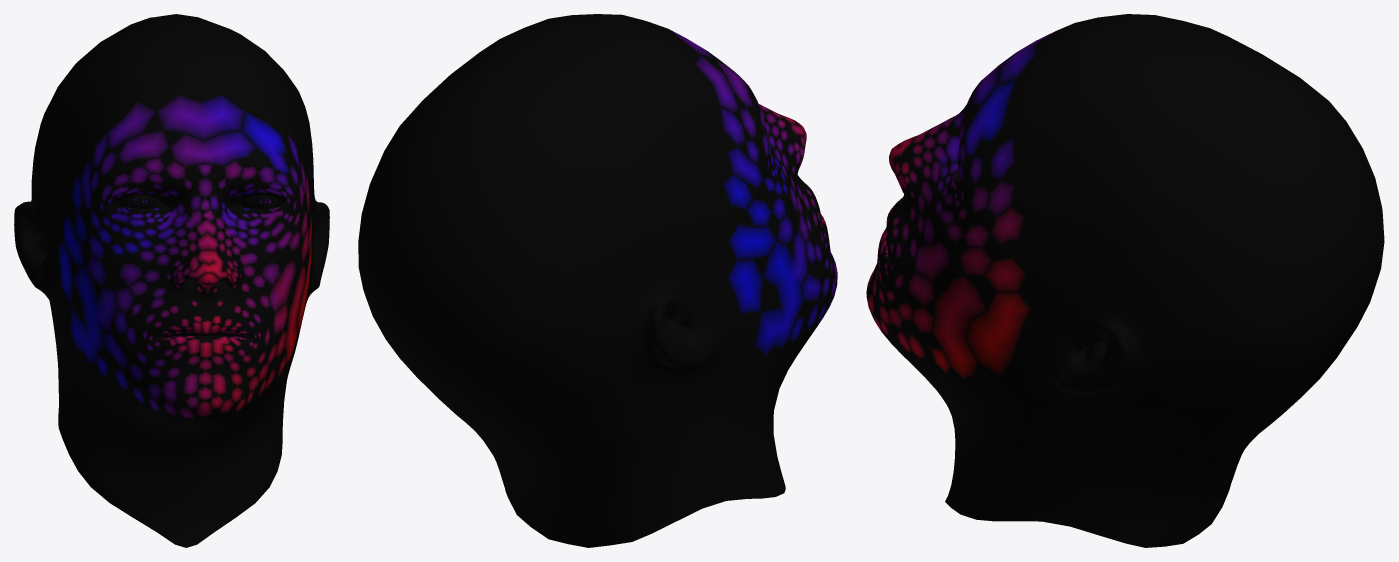
Rendered from colored_can.obj.
3 renders of one model, left to right at view 1: azimuth 30°, elevation 25°; view 2: azimuth 150°, elevation 25°; view 3: azimuth 270°, elevation 25°, orthographic. The views are drawn at different scales.
Size of the model in its own units: 0.9157 by 1.36 by 1.25.
